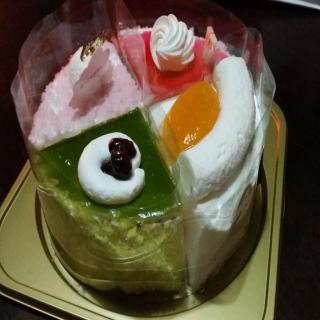Cake: (146, 47, 268, 293), (32, 107, 182, 303), (24, 21, 138, 150), (116, 11, 240, 105)
